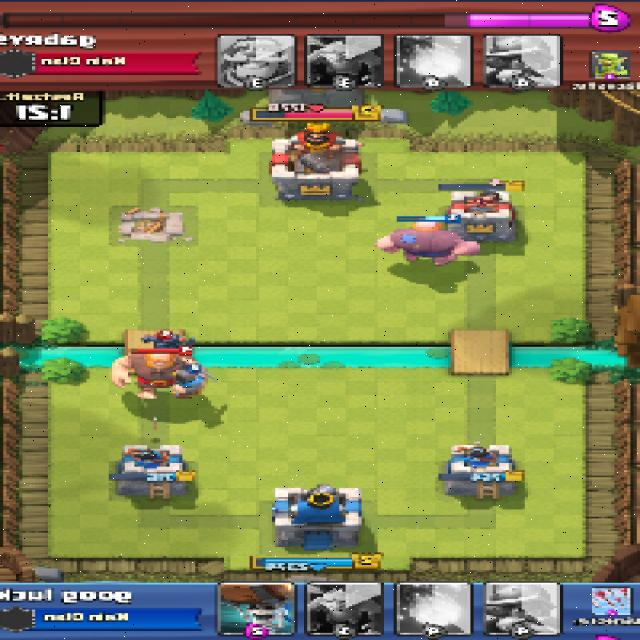Enemy-Giant: (108, 350, 205, 400)
Enemy-MiniPEKKA: (141, 332, 189, 350)
Player-Giant: (379, 221, 485, 264)
Player-Knight: (167, 364, 210, 401)
